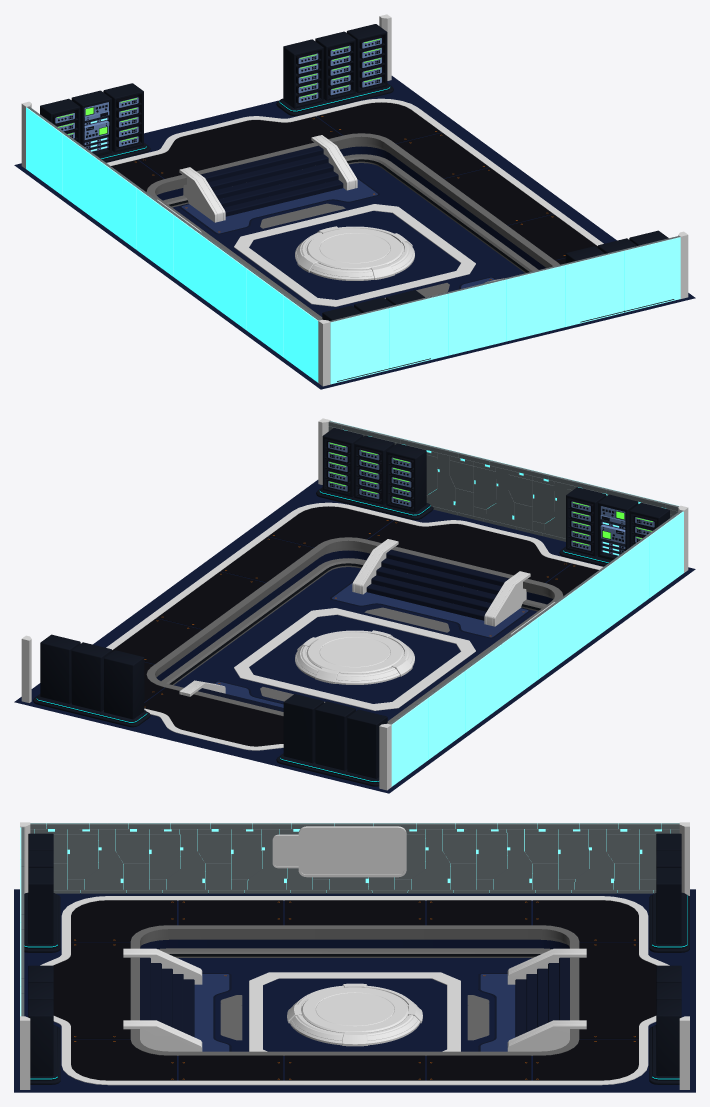
File: Programming.fbx
3 renders of one model, top to bottom at view 1: azimuth 30°, elevation 25°; view 2: azimuth 150°, elevation 25°; view 3: azimuth 270°, elevation 25°, orthographic. The views are drawn at different scales.
Visible parts, largest first — view 1: P_wall.001, P_wall.004, Cube.198, CR.006, CR.001, Surver.002, Surver.003, Stairs_01.001, CR.004, Main_door, Cube.176, Cube.199 (+6 smaller); view 2: Cube.198, P_wall.004, Surver.002, CR.006, Surver.003, CR.001, P_wall.001, Stairs_01.001, CR.004, Main_door, Cube.199, Cube.176 (+6 smaller); view 3: Cube.198, P_wall.004, CR.001, CR.006, CR.004, Cube.199, Surver.003, Surver.002, Plane.001, Stairs_01.001, Stairs_01.003, Cube.178 (+9 smaller).
Boxes of the visible parts, bbox=[...] form: P_wall.001: bbox=[329, 236, 680, 384]; P_wall.004: bbox=[26, 106, 320, 382]; Cube.198: bbox=[111, 102, 597, 264]; CR.006: bbox=[172, 163, 524, 316]; CR.001: bbox=[14, 76, 695, 389]; Surver.002: bbox=[276, 24, 674, 322]; Surver.003: bbox=[40, 83, 430, 381]; Stairs_01.001: bbox=[200, 145, 343, 216]; CR.004: bbox=[146, 133, 559, 319]; Main_door: bbox=[234, 204, 475, 306]; Cube.176: bbox=[305, 228, 404, 269]; Cube.199: bbox=[107, 98, 603, 245]; Cube.198: bbox=[112, 506, 598, 746]; P_wall.004: bbox=[389, 510, 683, 786]; Surver.002: bbox=[33, 428, 433, 727]; CR.006: bbox=[174, 567, 537, 720]; Surver.003: bbox=[276, 487, 669, 786]; CR.001: bbox=[14, 480, 695, 793]; P_wall.001: bbox=[328, 421, 679, 541]; Stairs_01.001: bbox=[198, 549, 509, 711]; CR.004: bbox=[146, 537, 563, 723]; Main_door: bbox=[234, 608, 475, 710]; Cube.199: bbox=[106, 502, 602, 750]; Cube.176: bbox=[305, 632, 404, 673]; Cube.198: bbox=[53, 900, 656, 1080]; P_wall.004: bbox=[30, 823, 679, 893]; CR.001: bbox=[14, 889, 695, 1092]; CR.006: bbox=[177, 958, 532, 1051]; CR.004: bbox=[130, 925, 579, 1055]; Cube.199: bbox=[40, 896, 669, 1085]; Surver.003: bbox=[24, 833, 689, 952]; Surver.002: bbox=[28, 965, 681, 1084]; Plane.001: bbox=[272, 826, 406, 877]; Stairs_01.001: bbox=[140, 957, 569, 1037]; Stairs_01.003: bbox=[123, 948, 586, 1051]; Cube.178: bbox=[194, 973, 515, 1051].
Size of the model in its own units: 1571 by 2225 by 352.
